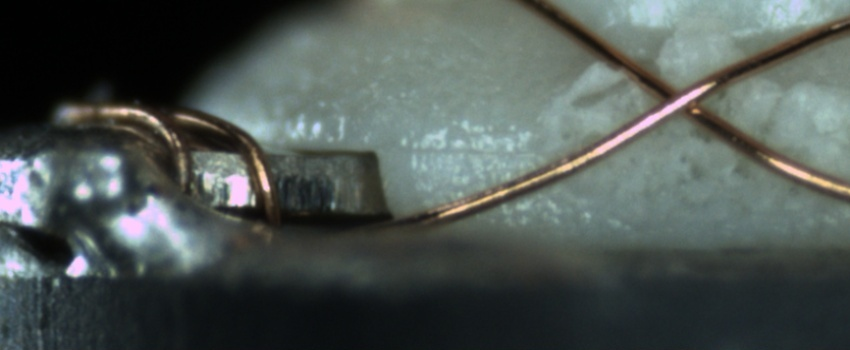CL: (629, 62, 724, 131)
DL: (399, 119, 548, 183)
TE: (53, 94, 288, 234)
